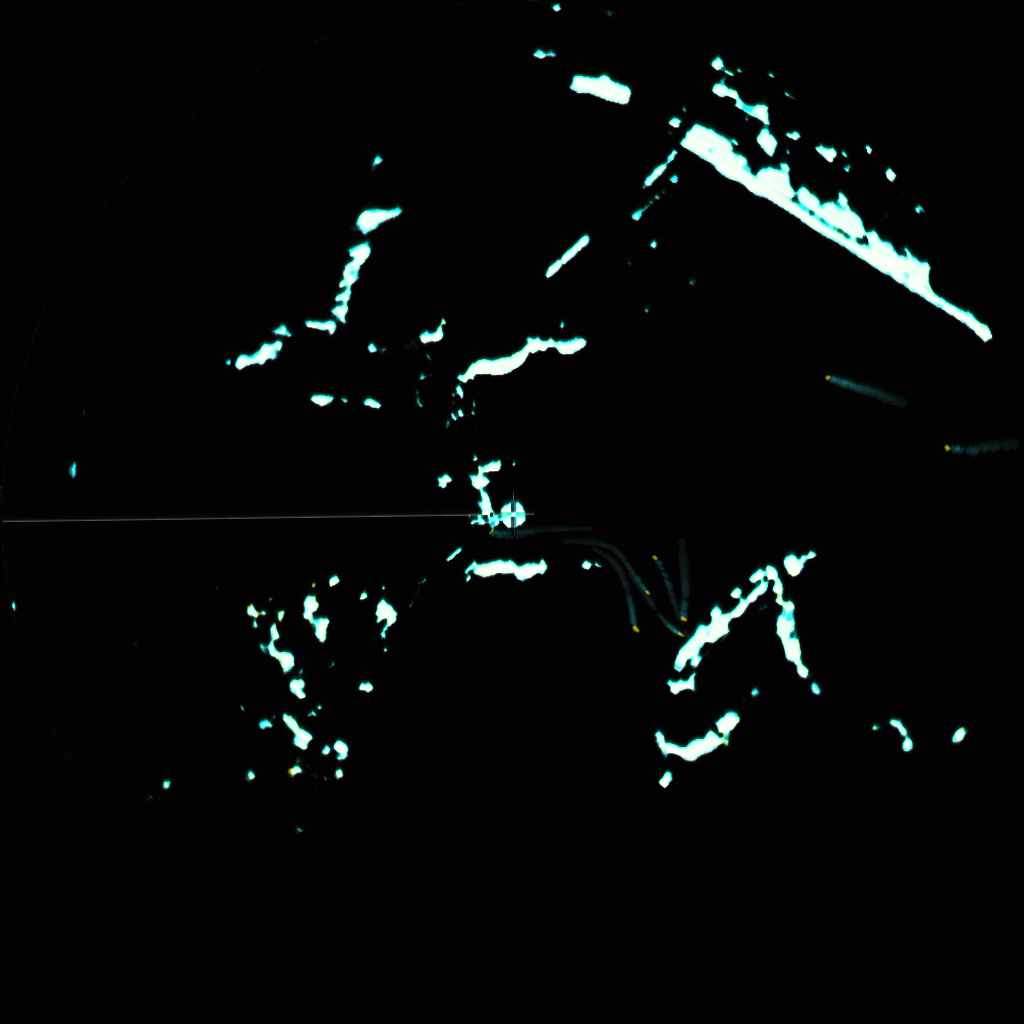B: (651, 593, 686, 639), (824, 373, 882, 399), (673, 566, 692, 624), (624, 584, 644, 636), (944, 442, 1003, 459), (653, 552, 675, 592), (488, 526, 543, 540)
